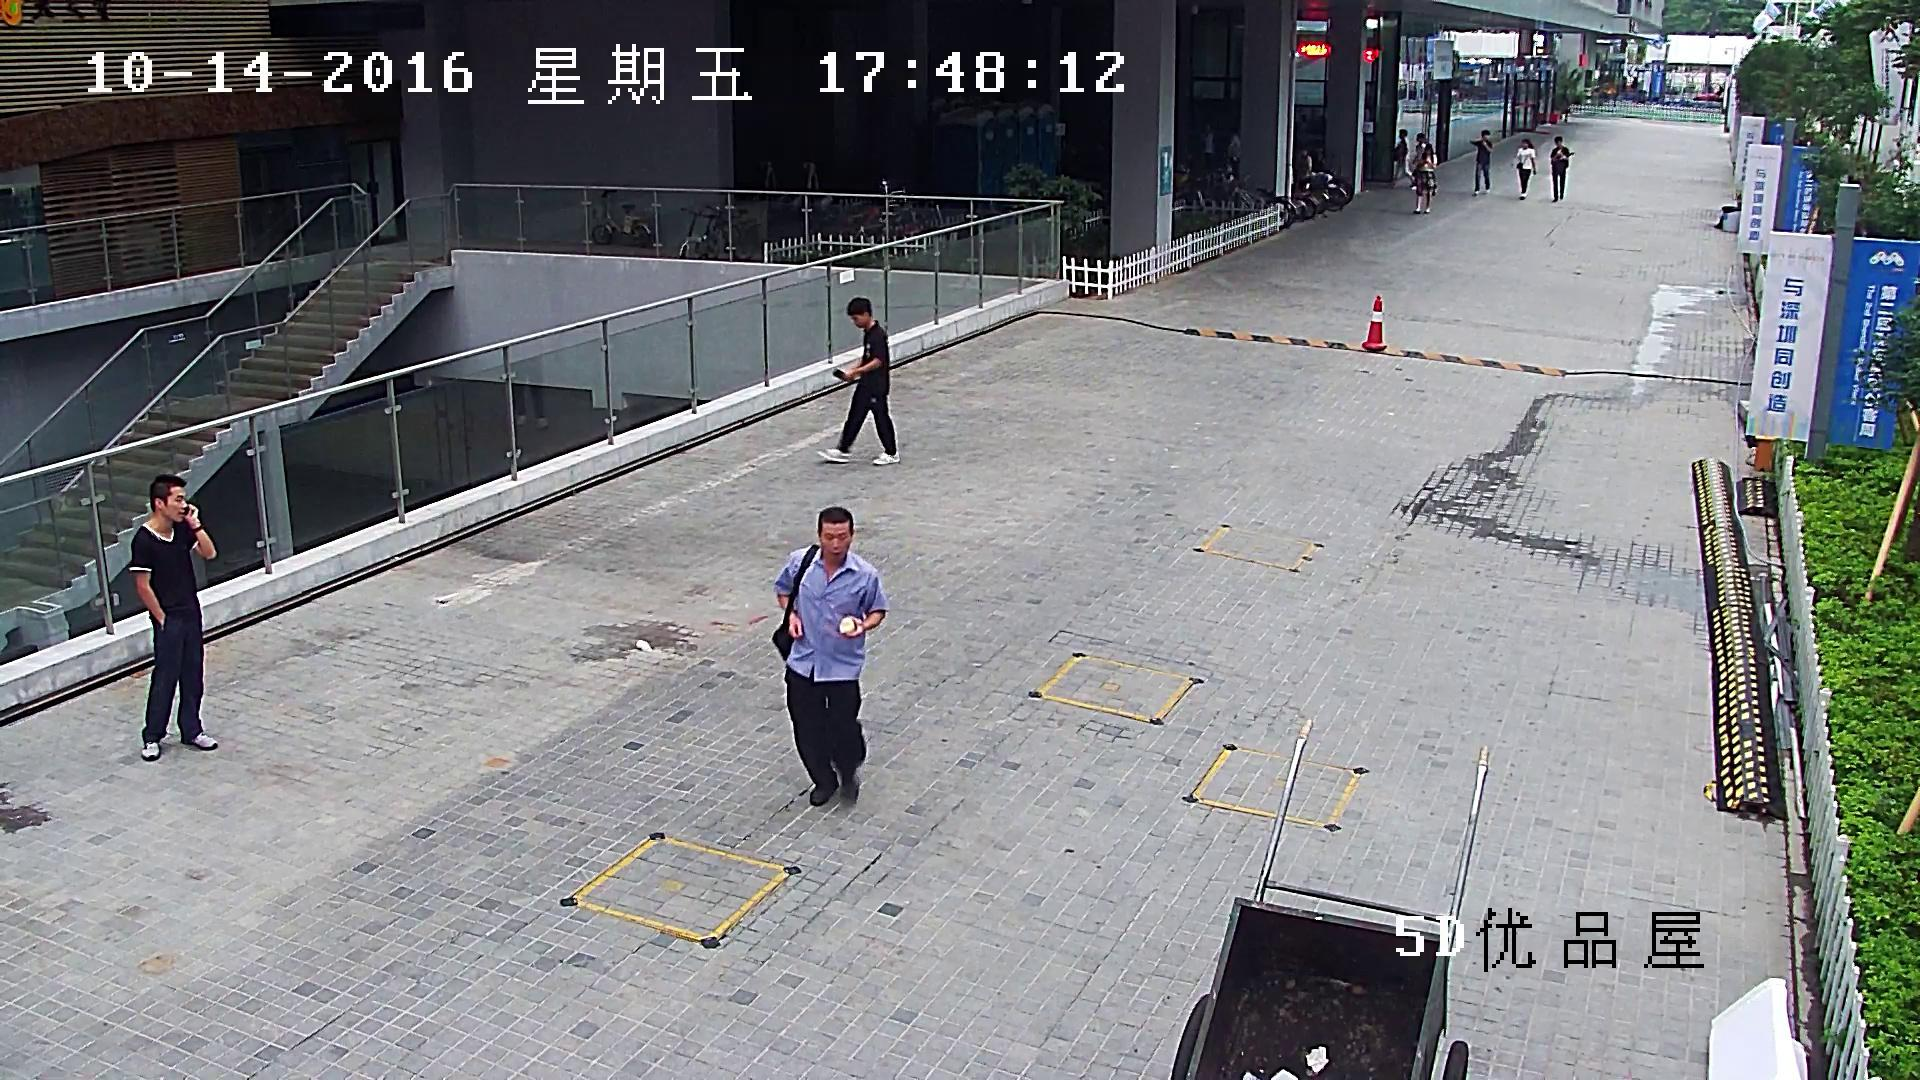person: (772, 506, 889, 805), (129, 473, 218, 760), (816, 296, 900, 465), (1409, 133, 1437, 196), (1550, 136, 1574, 202), (1469, 129, 1493, 195), (1412, 143, 1434, 214), (1513, 138, 1536, 200), (1390, 128, 1414, 188), (1294, 148, 1312, 191), (1227, 128, 1241, 178), (1196, 121, 1215, 154)
